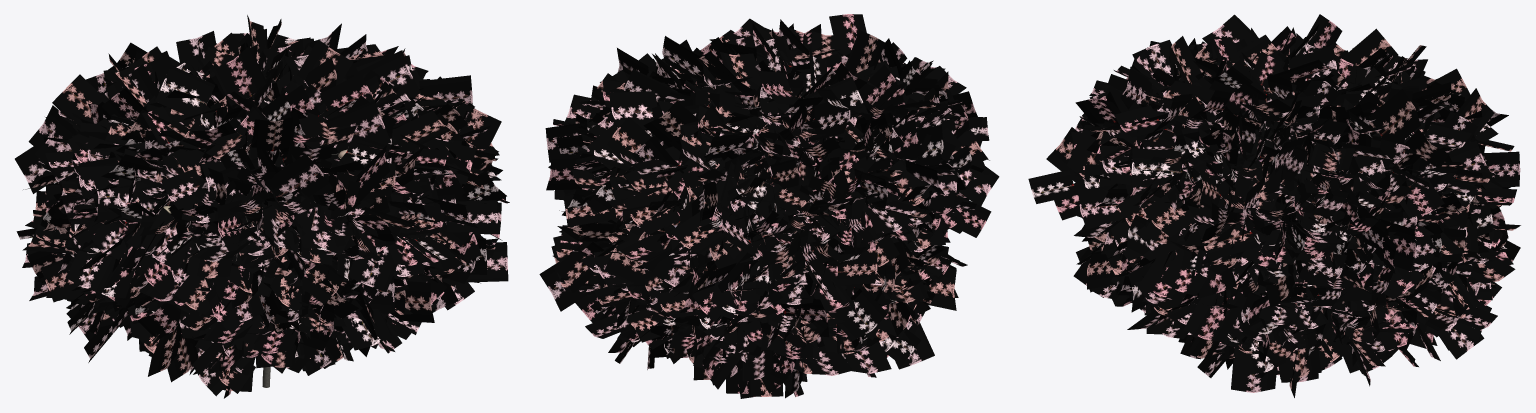
Rendered from tree_11_red_maple.glb.
3 renders of one model, left to right at view 1: azimuth 30°, elevation 25°; view 2: azimuth 150°, elevation 25°; view 3: azimuth 270°, elevation 25°, orthographic. The views are drawn at different scales.
Parts seen in each view (by area): view 1: tree_11_red_maple.leaves; view 2: tree_11_red_maple.leaves; view 3: tree_11_red_maple.leaves.
Boxes of the visible parts, <box> form: tree_11_red_maple.leaves: <box>15,15,509,398</box>; tree_11_red_maple.leaves: <box>539,14,999,398</box>; tree_11_red_maple.leaves: <box>1028,14,1520,397</box>.
Size of the model in its own units: 8.88 by 6.41 by 9.43.
3 materials, 2 textured.
